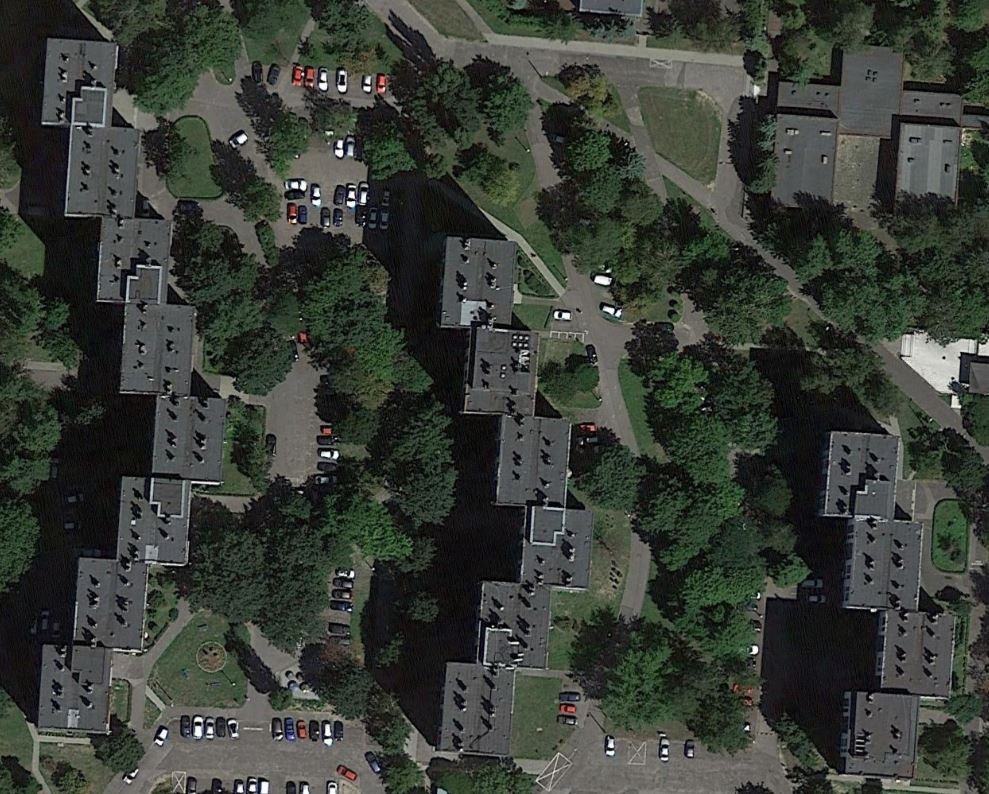block of flats: (27, 31, 236, 746), (425, 227, 609, 771), (817, 425, 958, 782), (760, 44, 971, 223)
